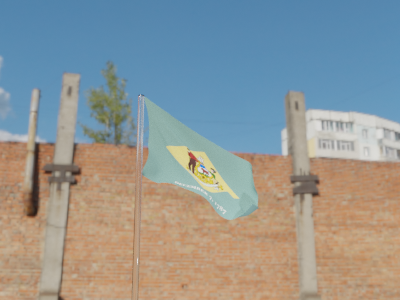Delaware flag: (143, 94, 260, 221)
